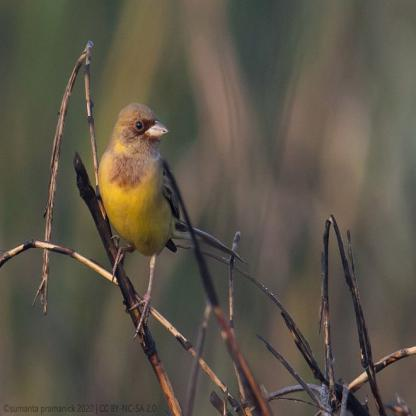Burung: (95, 105, 177, 335)
